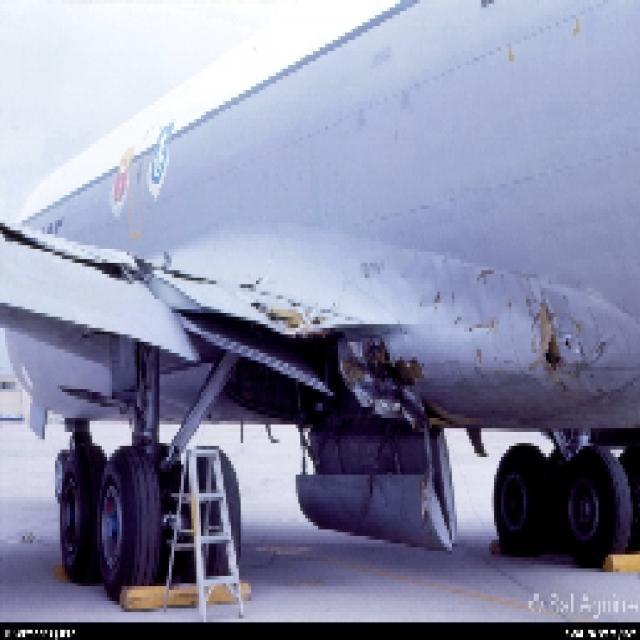crack: (539, 304, 567, 385)
dent: (403, 261, 533, 353)
